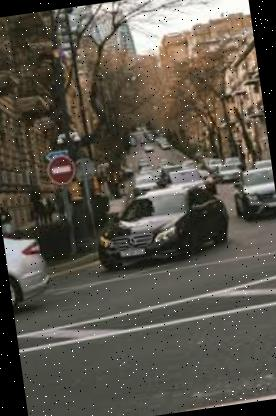car: (86, 176, 238, 283)
